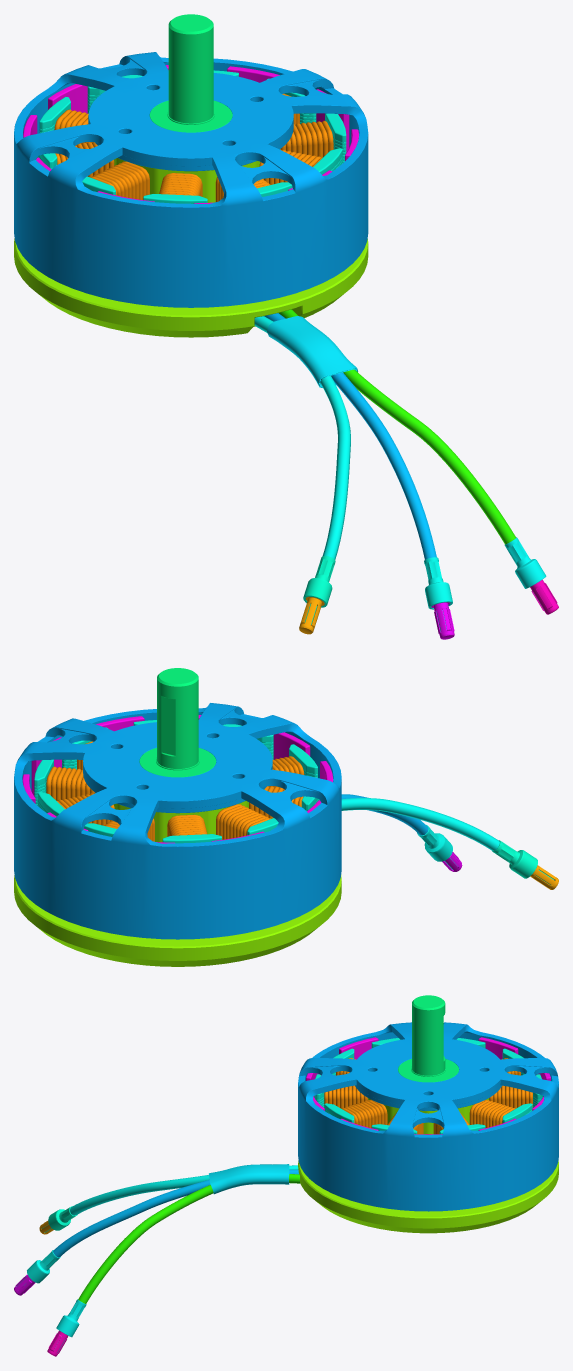
Rendered from motor.glb.
3 renders of one model, top to bottom at view 1: azimuth 30°, elevation 25°; view 2: azimuth 150°, elevation 25°; view 3: azimuth 270°, elevation 25°, orthographic. The views are drawn at different scales.
Parts seen in each view (by area): view 1: Cylinder_008, polySurface9, Cylinder_011, Cube_002, Cube_008, polySurface11, polySurface12, BezierCurve_003, polySurface10, Cube_005, polySurface27_Motor_015_t_0_2, polySurface27_Motor_015_t_0_1 (+1 smaller); view 2: Cylinder_008, polySurface9, Cylinder_011, Cube_002, Cube_008, polySurface10, Cube_005, polySurface27, polySurface27_Motor_015_t_0_1, polySurface12, polySurface26; view 3: Cylinder_008, polySurface9, Cube_002, Cylinder_011, polySurface11, Cube_008, polySurface12, BezierCurve_003, polySurface10, Cube_005, polySurface27_Motor_015_t_0_2, polySurface27_Motor_015_t_0_1.
Part boxes in pixels (x1,y1,x2,y2): Cylinder_008: (14,52,368,307); polySurface9: (14,158,368,337); Cylinder_011: (149,14,232,132); Cube_002: (54,93,333,201); Cube_008: (37,70,346,203); polySurface11: (279,309,516,544); polySurface12: (264,313,436,559); BezierCurve_003: (267,316,357,387); polySurface10: (254,316,350,559); Cube_005: (23,65,358,203); polySurface27_Motor_015_t_0_2: (504,537,546,605); polySurface27_Motor_015_t_0_1: (424,557,452,631); Cylinder_008: (14,703,341,939); polySurface9: (14,801,341,966); Cylinder_011: (139,668,216,777); Cube_002: (46,741,304,841); Cube_008: (34,720,319,843); polySurface10: (341,798,499,850); Cube_005: (22,715,333,843); polySurface27: (492,840,554,885); polySurface27_Motor_015_t_0_1: (417,825,458,869); polySurface12: (341,794,428,835); polySurface26: (530,865,558,889); Cylinder_008: (298,1022,558,1211); polySurface9: (298,1098,558,1233); Cube_002: (324,1058,532,1134); Cylinder_011: (398,995,458,1082); polySurface11: (78,1174,300,1303); Cube_008: (314,1038,542,1134); polySurface12: (53,1169,298,1257); BezierCurve_003: (209,1164,289,1194); polySurface10: (69,1165,298,1215); Cube_005: (306,1037,550,1134); polySurface27_Motor_015_t_0_2: (55,1299,86,1352); polySurface27_Motor_015_t_0_1: (16,1250,60,1286).
Bounding box in the file's own units: 160 × 215 × 334.
